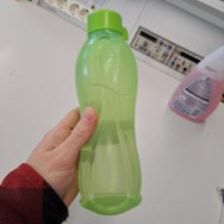bottle: (74, 8, 144, 213)
